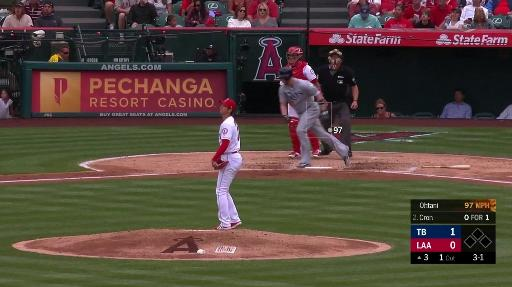pitcher: (210, 99, 249, 234)
